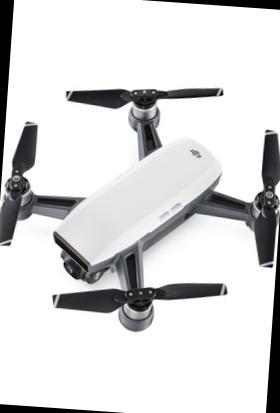drone: (0, 73, 280, 338)
